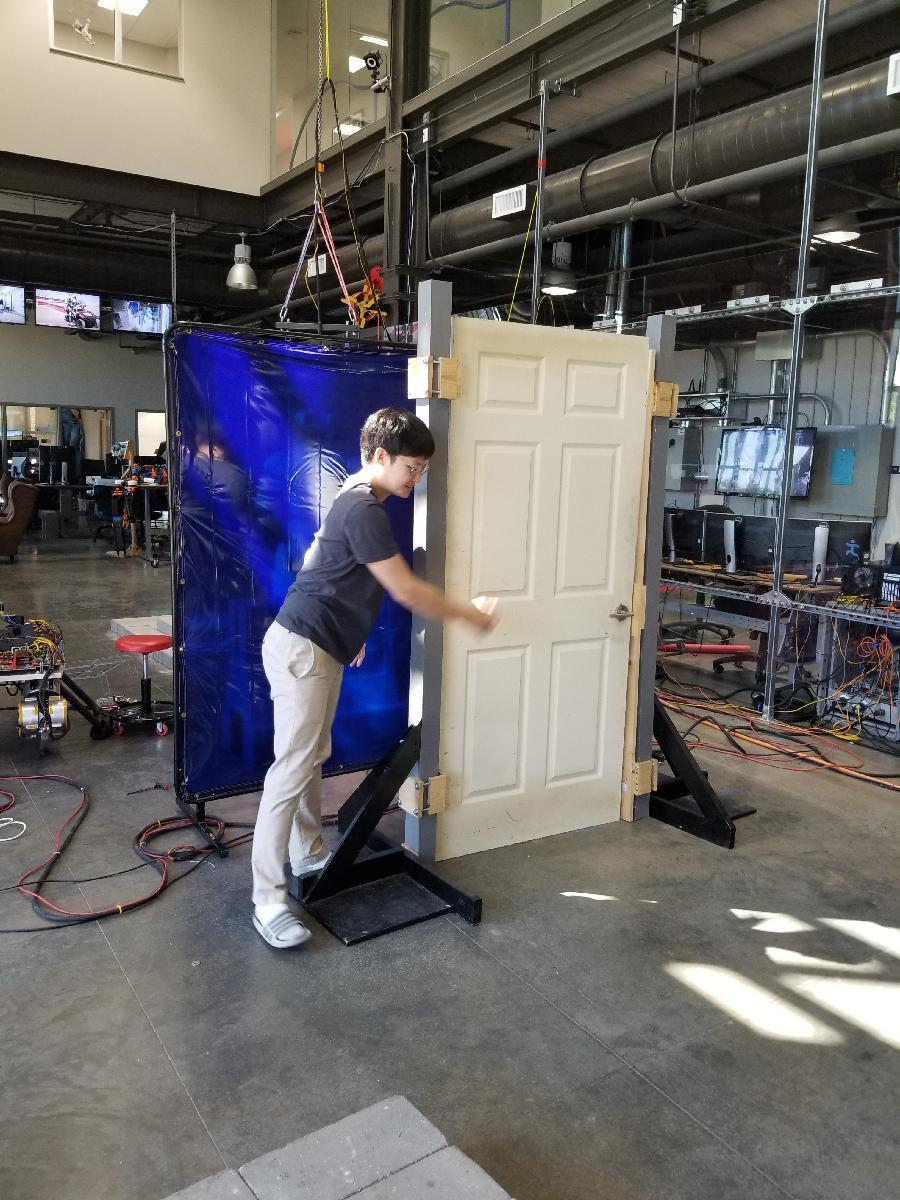door: (451, 316, 629, 852)
handle: (608, 602, 634, 624)
